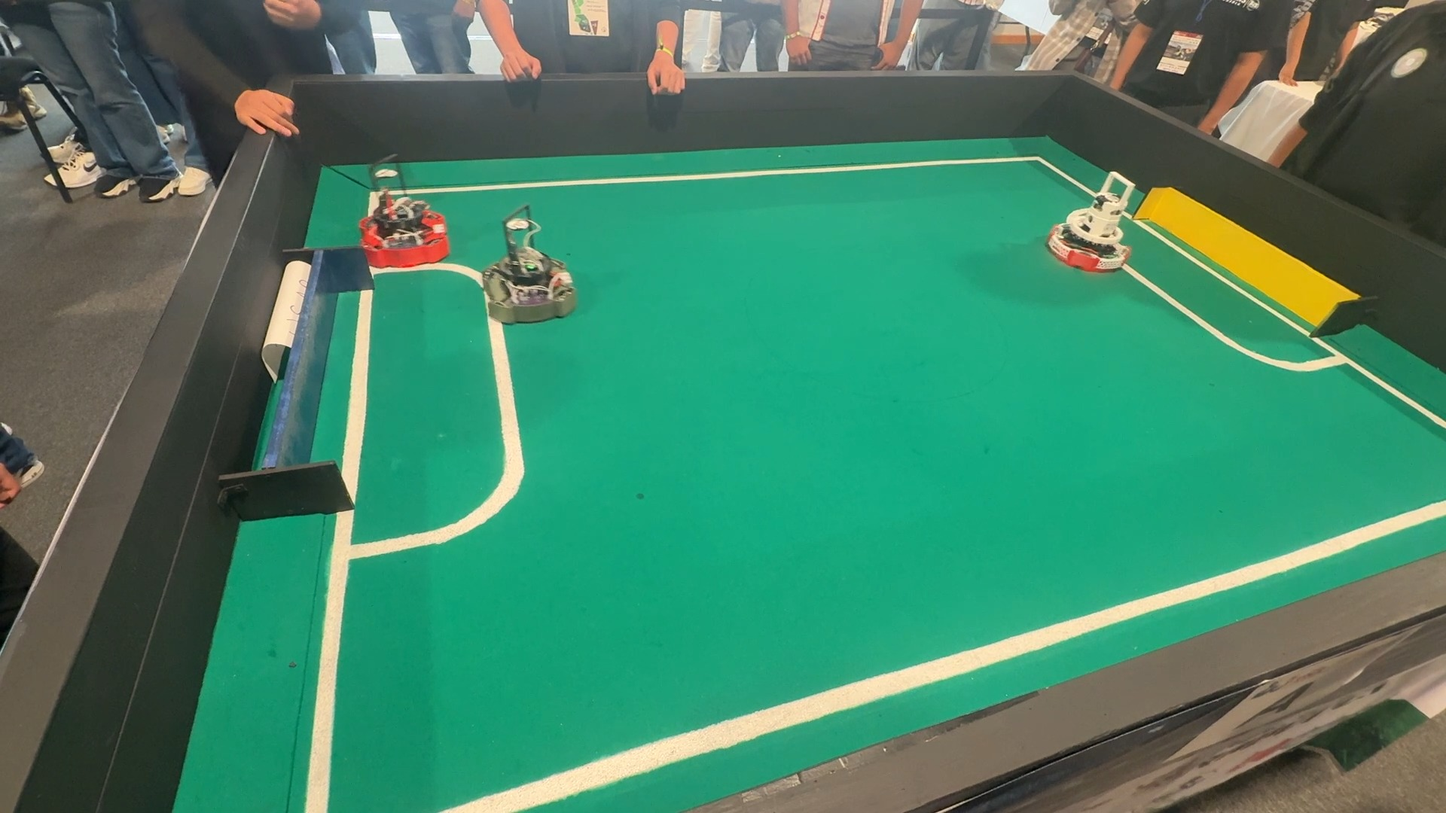Robot: (1039, 167, 1168, 289), (476, 209, 583, 332), (347, 185, 450, 264)
